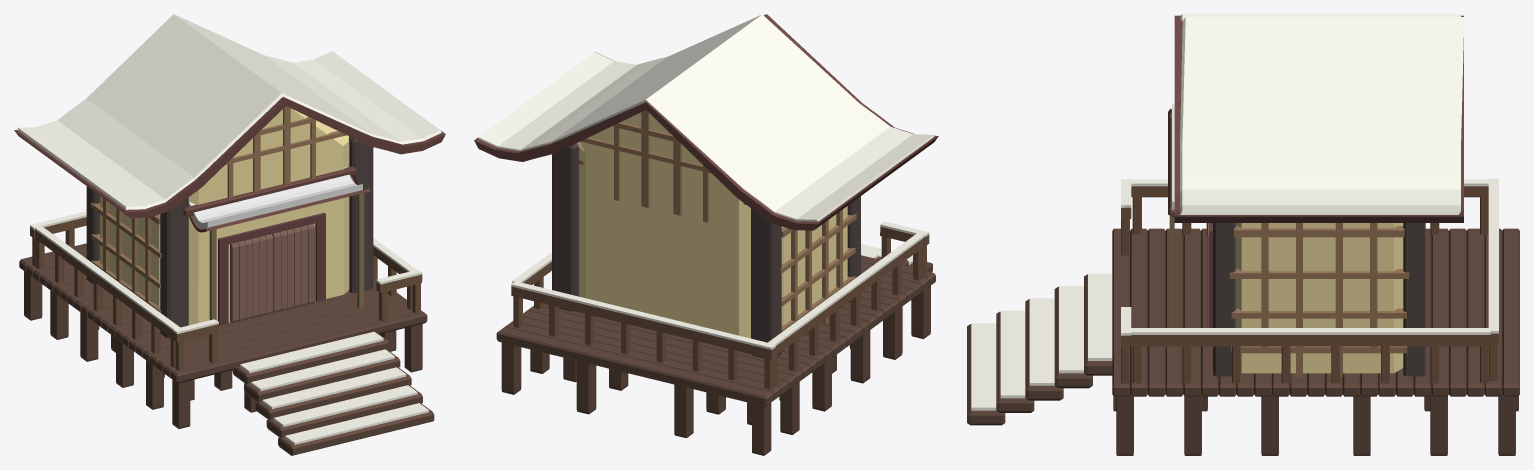
File: village-house3.fbx
3 views of the same model, side by side, from view 1: azimuth 30°, elevation 25°; view 2: azimuth 150°, elevation 25°; view 3: azimuth 270°, elevation 25° (orthographic). The views are drawn at different scales.
Parts seen in each view (by area): view 1: Cube.008; view 2: Cube.008; view 3: Cube.008.
Part boxes in pixels (box(x1,y1,x2,y2)): Cube.008: box(14, 14, 445, 455); Cube.008: box(474, 14, 938, 455); Cube.008: box(967, 14, 1519, 455).
Bounding box in the file's own units: 1189 × 1013 × 1381.
